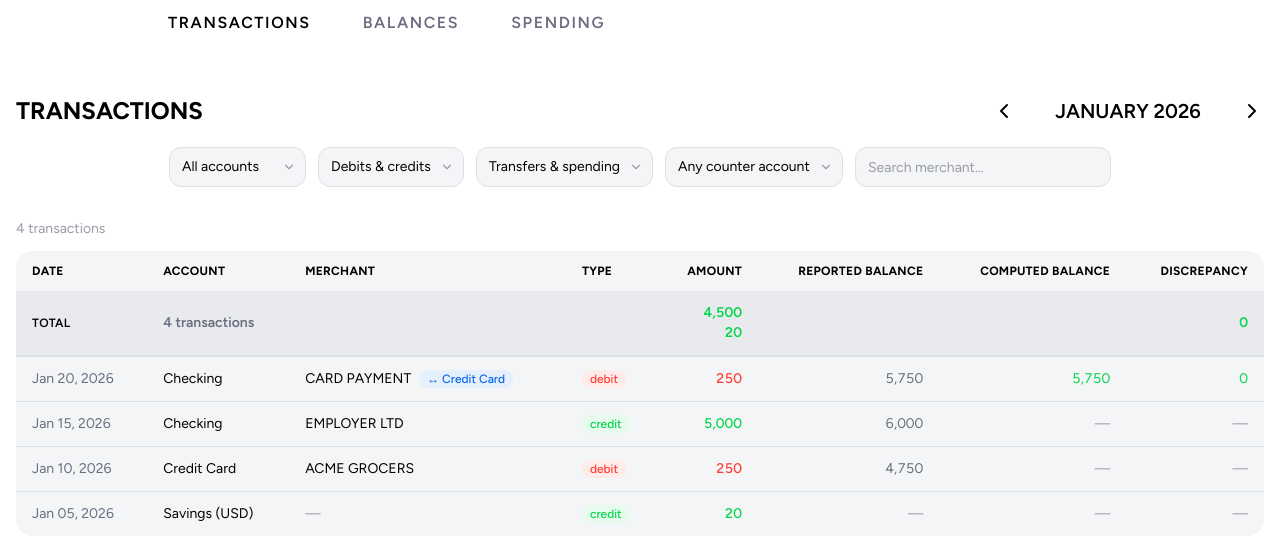
Test: Transactions page › filters to transfers only without touching the counter account
Check: the text "4 transactions" is shown, box 16,219 -> 105,239
Select "Transfers only" in the 3rd dropdown: (564, 167) 476,147 -> 653,187
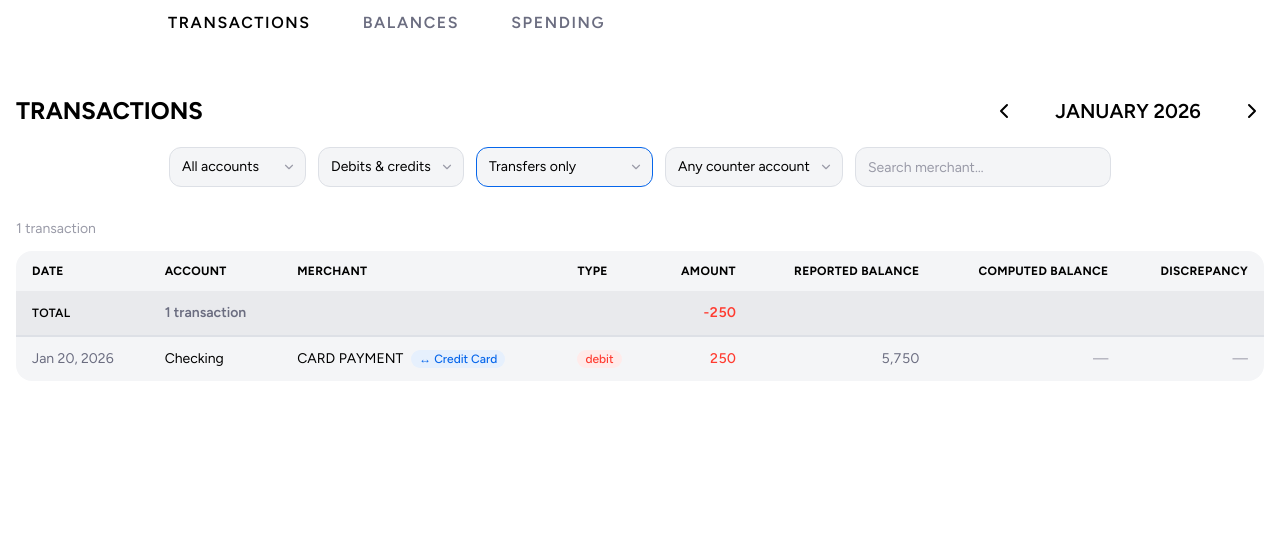
Check: the 4th dropdown is enabled, box 665,147 -> 843,187
Check: the text "1 transaction" is shown, box 16,219 -> 96,239
